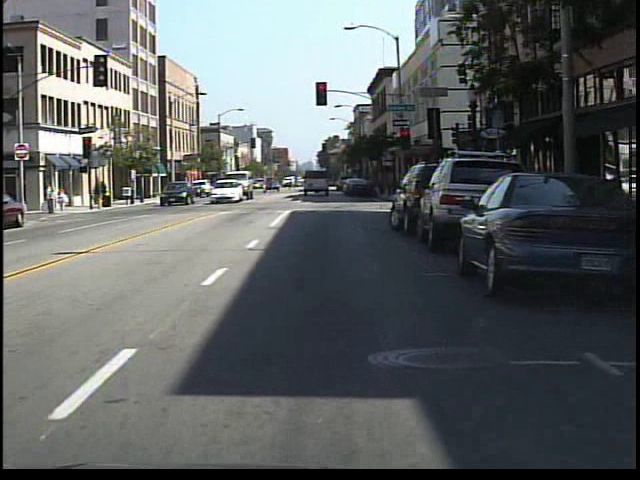person: (43, 180, 57, 218), (54, 184, 70, 214)
